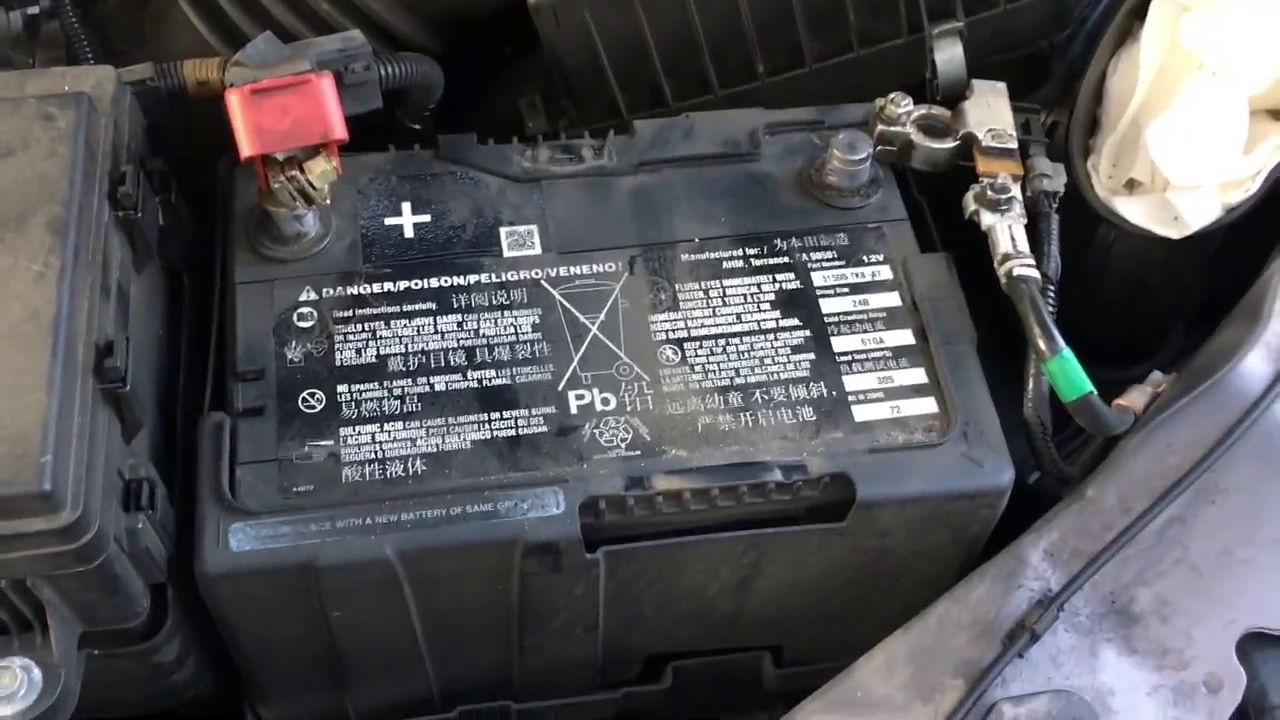battery: (194, 62, 1015, 525)
neg_disconnected: (786, 55, 1043, 228)
pos_connected: (184, 34, 379, 273)
